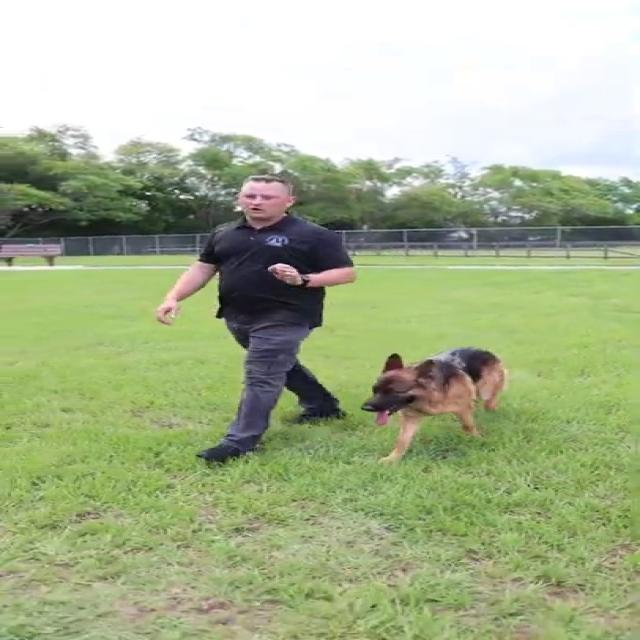Unleashed_Dog: (236, 311, 508, 461)
